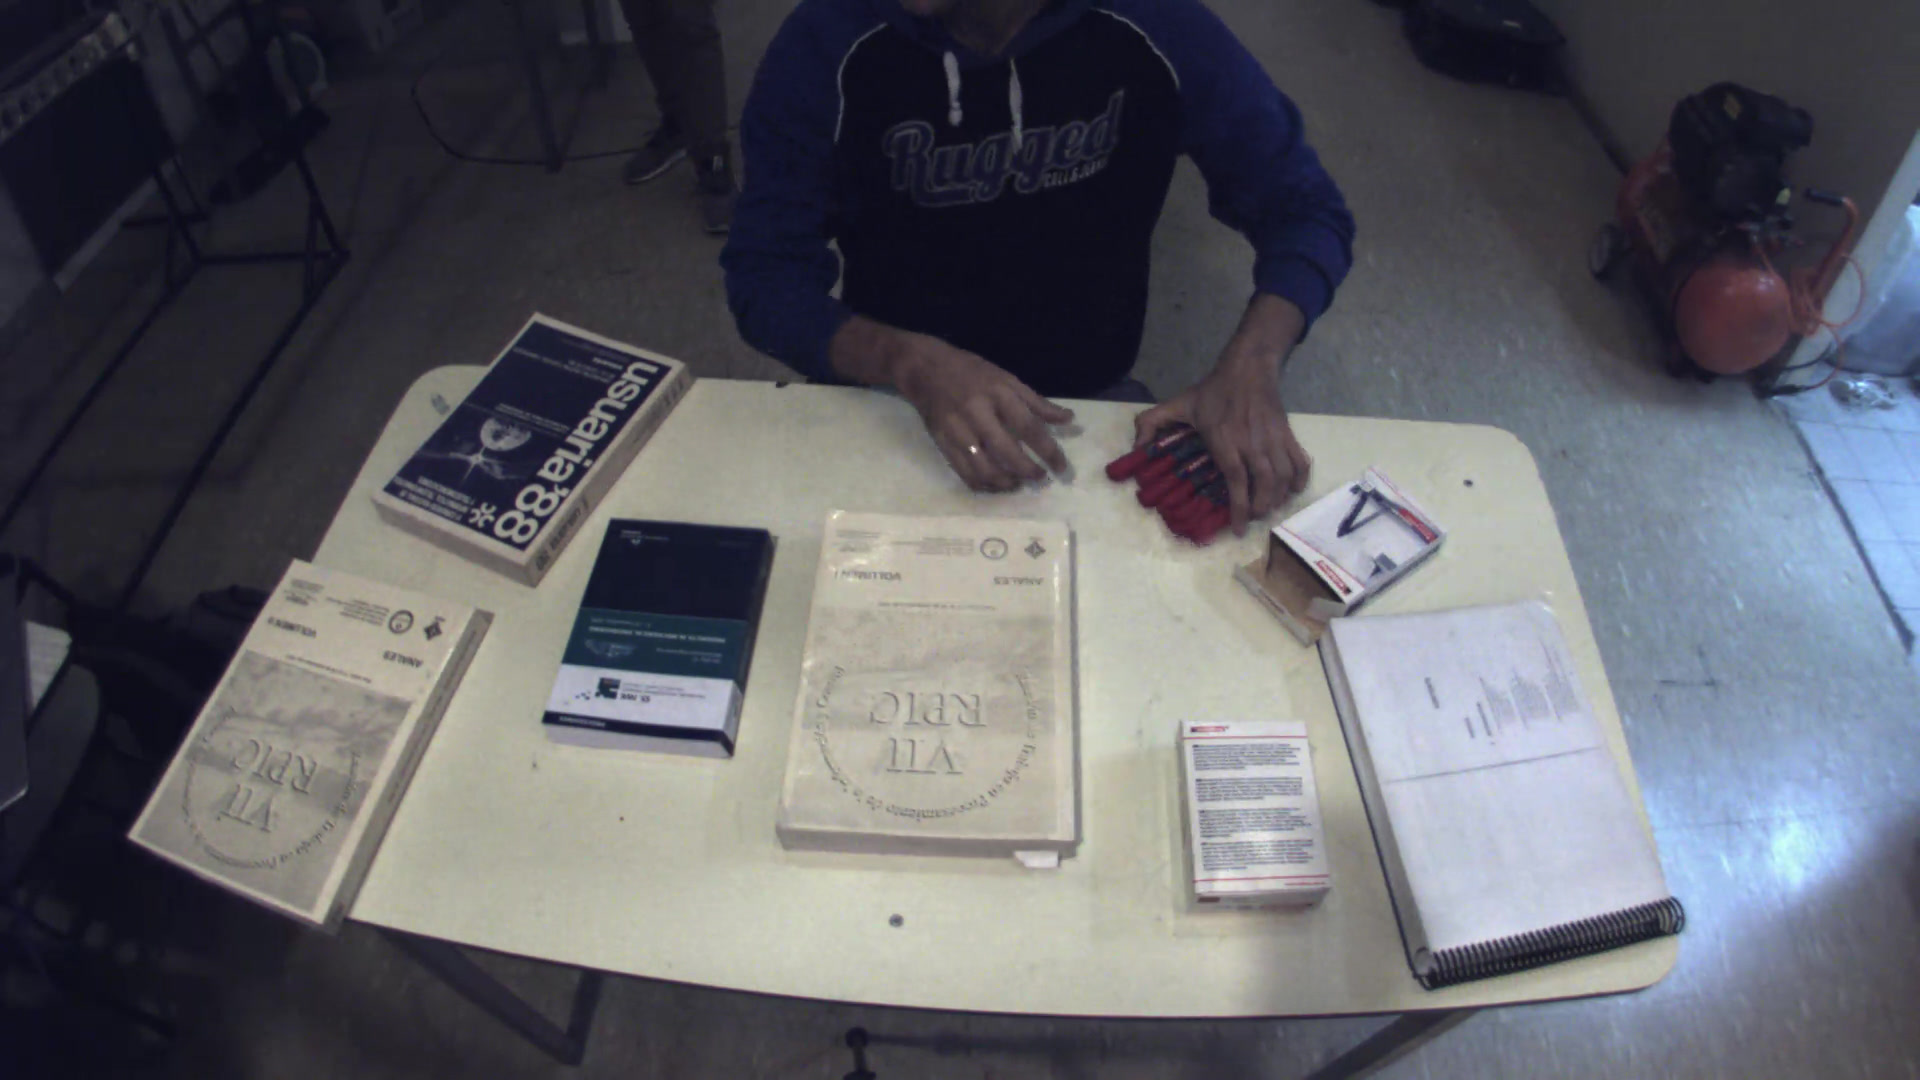hand: (828, 306, 1088, 500), (1102, 340, 1323, 531)
